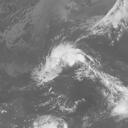cyclone: (31, 39, 86, 86)
